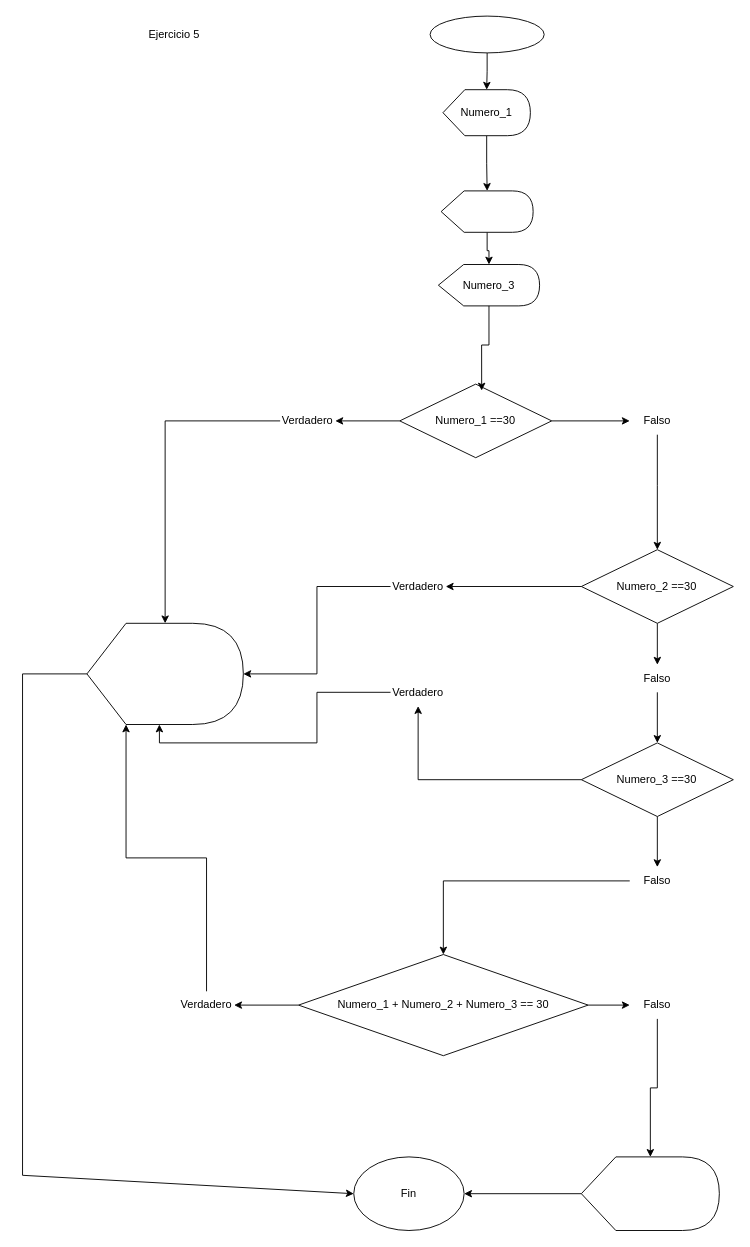
The diagram is 750 pixels wide and 1247 high, and some of its shapes have lost their labels. The shapes that lost their labels are listed below. From the top down, each one's box as (x1, y1, x2, y2) in pixels, then its label:
(429, 15, 544, 53): Inicio
(440, 190, 533, 232): Numero_2
(86, 622, 243, 724): Correcto
(580, 1156, 719, 1230): Incorrecto
